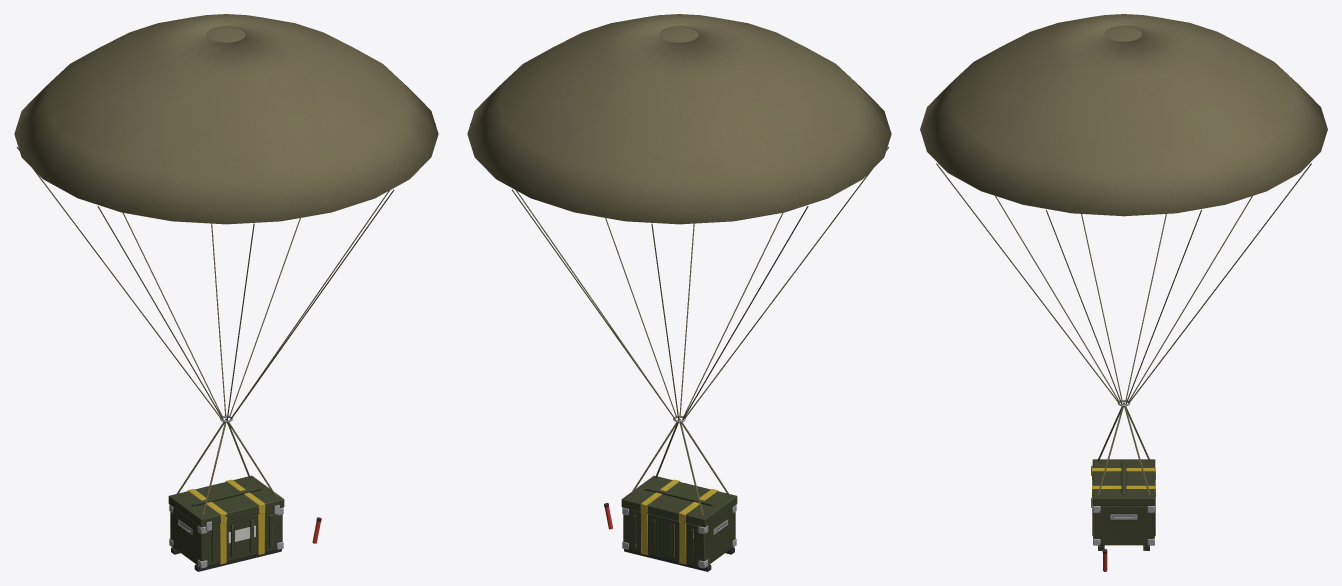
Rendered from supply-drop.glb.
3 views of the same model, side by side, from view 1: azimuth 30°, elevation 25°; view 2: azimuth 150°, elevation 25°; view 3: azimuth 270°, elevation 25° (orthographic). The views are drawn at different scales.
Parts seen in each view (by area): view 1: chute, body, lid; view 2: chute, body, lid; view 3: chute, lid, body.
Boxes of the visible parts, box(x1,y1,x2,y2) form: chute: box(14, 14, 438, 515); body: box(169, 504, 283, 571); lid: box(168, 475, 284, 531); chute: box(467, 14, 891, 515); body: box(622, 504, 736, 571); lid: box(621, 475, 737, 527); chute: box(920, 14, 1327, 495); lid: box(1091, 459, 1155, 507); body: box(1092, 480, 1155, 550).
Size of the model in its own units: 5.4 by 7.34 by 5.4.
Materials: 7 (7 with a texture image).
